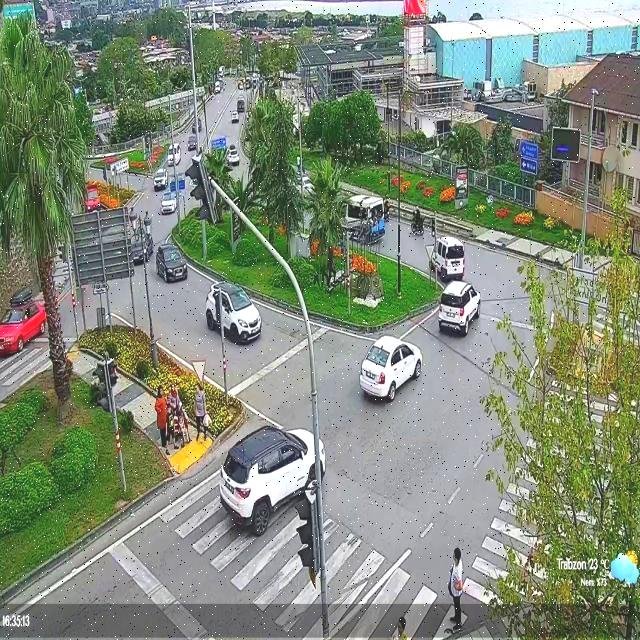Car: (214, 423, 320, 535), (355, 330, 422, 412), (0, 285, 54, 375), (194, 287, 270, 348), (430, 282, 487, 337), (156, 238, 191, 288), (424, 238, 466, 279), (127, 230, 154, 265), (80, 180, 104, 213), (149, 165, 173, 195), (154, 192, 184, 215), (162, 141, 181, 169), (221, 144, 242, 165), (183, 136, 200, 152), (229, 109, 243, 126)
